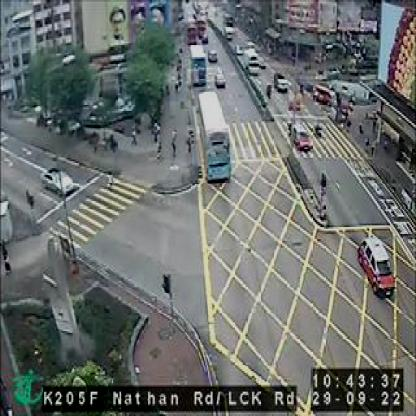Bus: (195, 87, 234, 182), (187, 44, 208, 84), (182, 14, 198, 40)
Car: (353, 234, 398, 305), (42, 161, 74, 194), (286, 118, 313, 154), (269, 71, 290, 95)
Truck: (242, 47, 260, 78)
